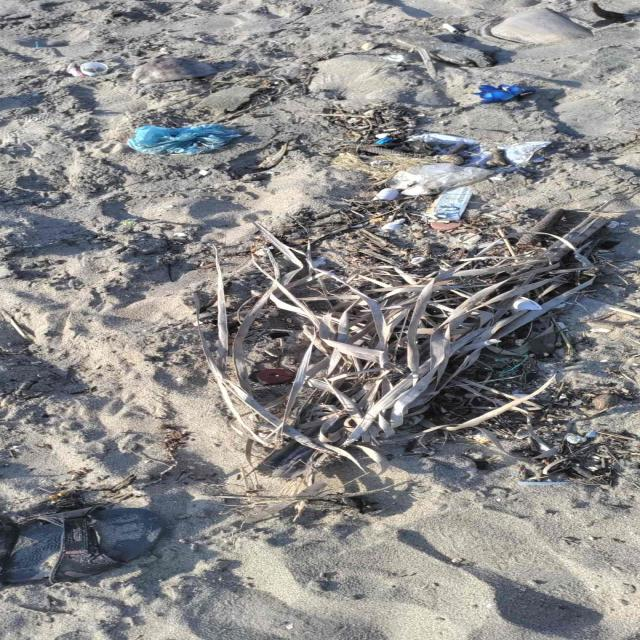nhua: (126, 123, 240, 154)
rac_huu_co: (198, 210, 620, 473)
